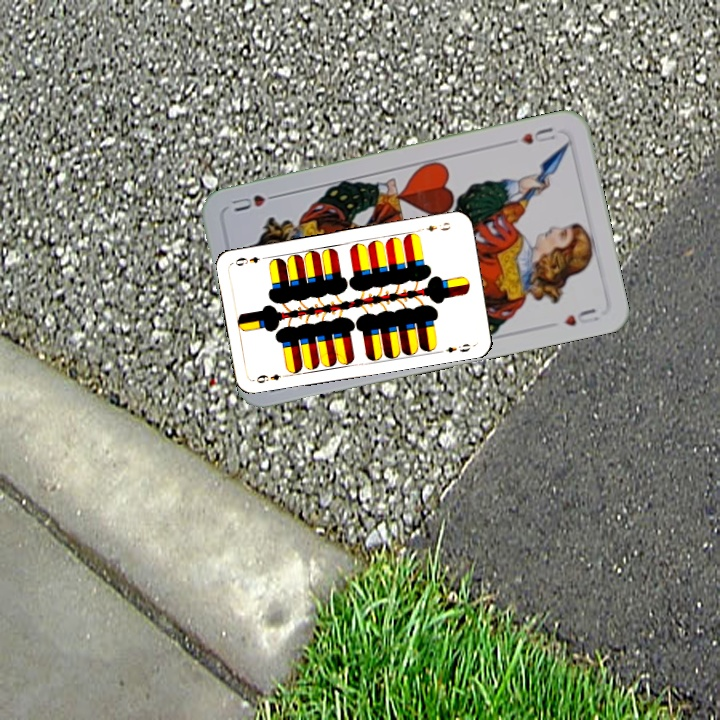E9: (252, 370, 283, 386), (423, 218, 453, 234)
HU: (516, 123, 561, 147)
